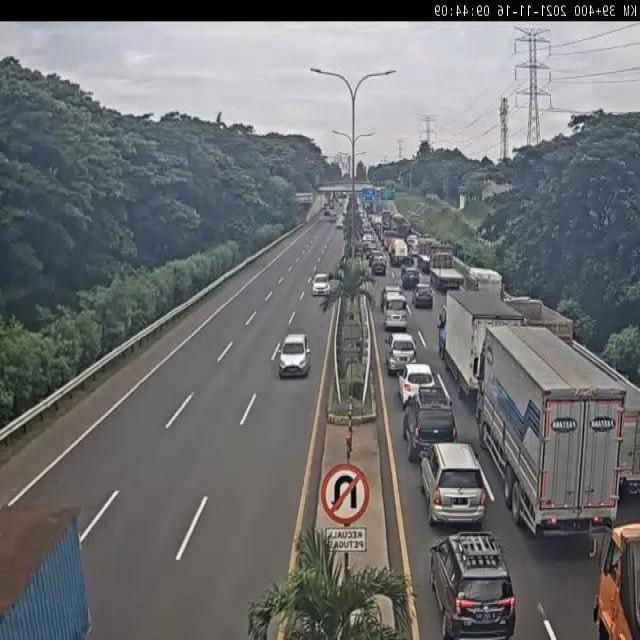Car: (428, 530, 516, 640), (420, 443, 488, 527), (400, 372, 460, 442), (398, 353, 438, 403), (278, 333, 311, 378), (385, 332, 417, 372), (413, 284, 434, 308), (311, 273, 331, 296), (401, 267, 420, 289), (356, 198, 368, 227), (372, 259, 386, 276), (335, 216, 344, 230), (329, 213, 337, 222), (324, 208, 330, 216)
Truck: (480, 330, 630, 532), (442, 286, 526, 406), (380, 211, 392, 232), (373, 220, 383, 240), (337, 191, 347, 204)
